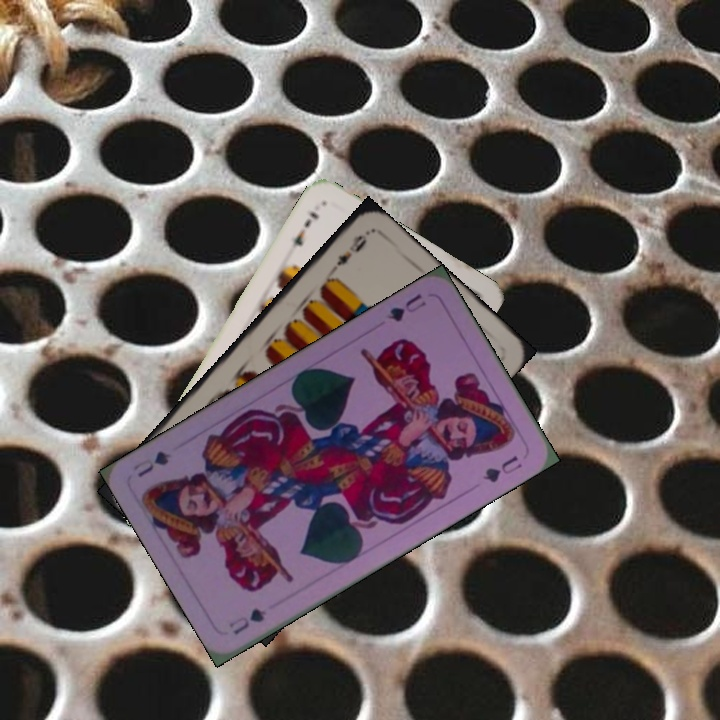E7: (285, 208, 321, 253)
E9: (325, 230, 370, 277)
GU: (383, 289, 429, 325), (224, 604, 269, 637)
